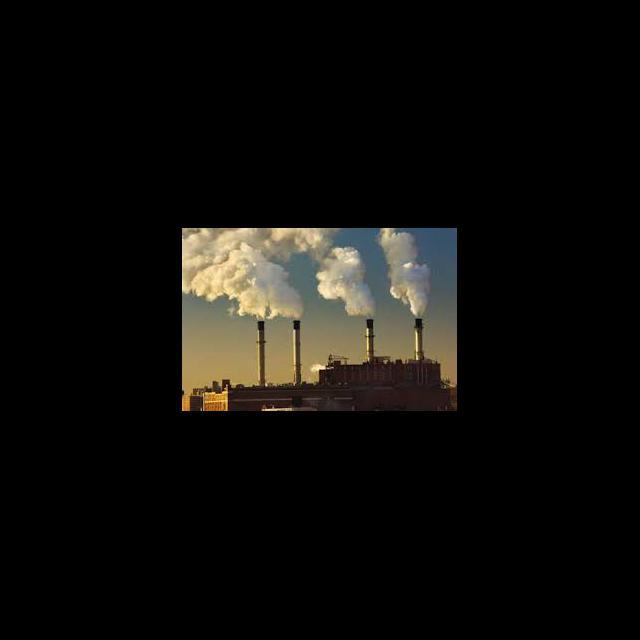Smoke: (184, 228, 300, 320), (310, 234, 376, 318), (378, 230, 432, 318)
